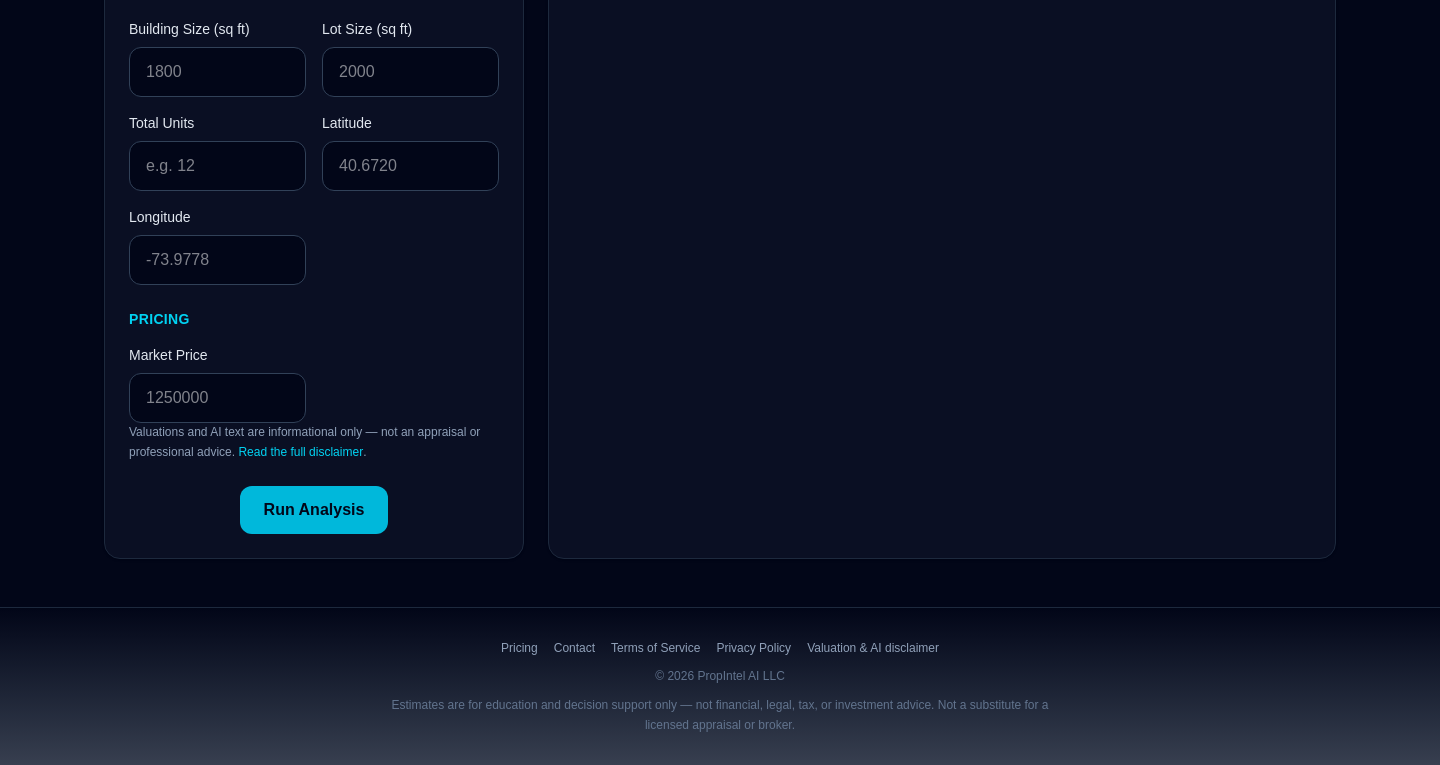
Scenario: Analyze page — form validation › shows borough validation error when submitted empty
(page scrolled)
Click the button "Run Analysis" at x=314, y=510, box [240,486,388,534]
(page scrolled)
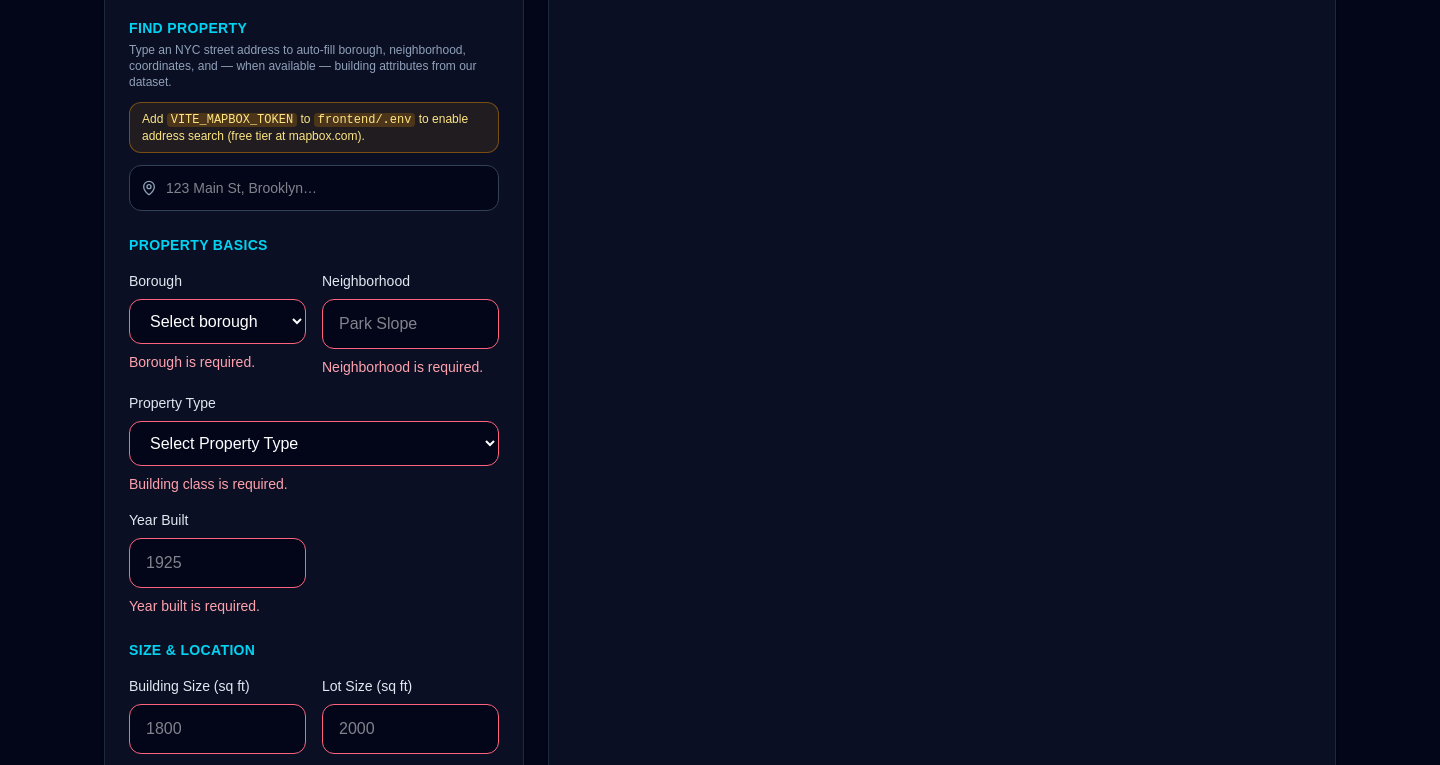
Expected: the text "Borough is required." is shown, [129,354,255,370]
